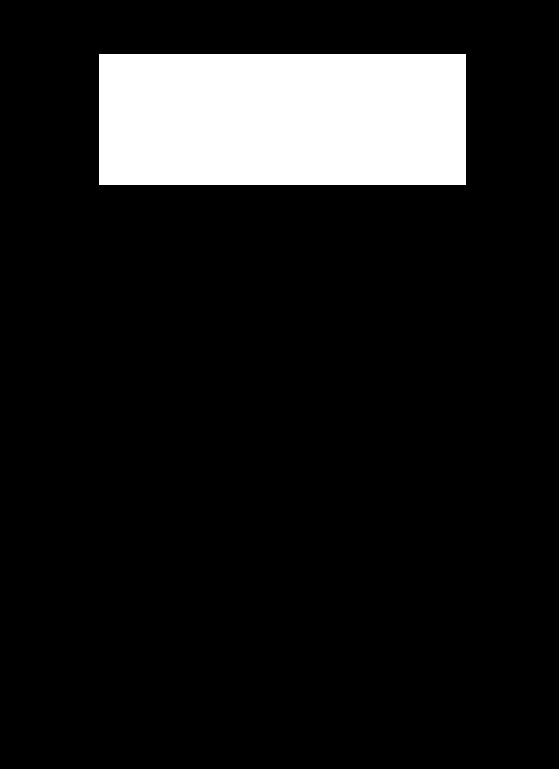table: (99, 54, 465, 184)
